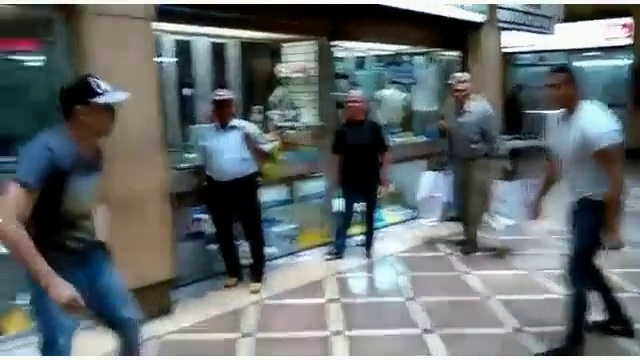normal: (1, 74, 146, 356), (528, 63, 635, 353), (186, 83, 276, 294), (431, 71, 504, 255), (323, 87, 390, 261)
